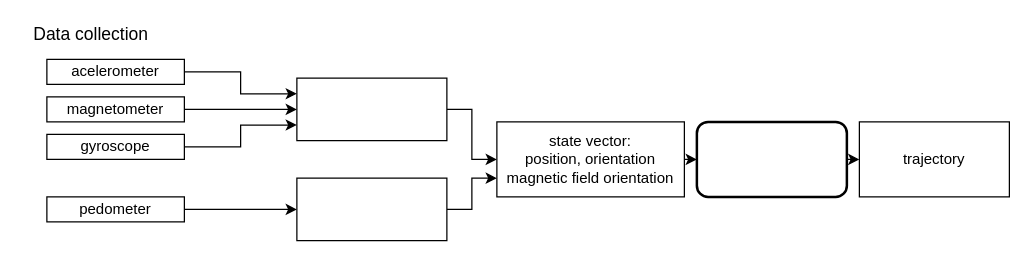
Image size: 1031x263. Some labels were removed from this diagram. Here are the shapes that lost their labels. From the top down, the centre of each, then its label:
At (x=371, y=109): "measuring inertial movement data".
At (x=771, y=159): "filtering".
At (x=371, y=209): "step count".
